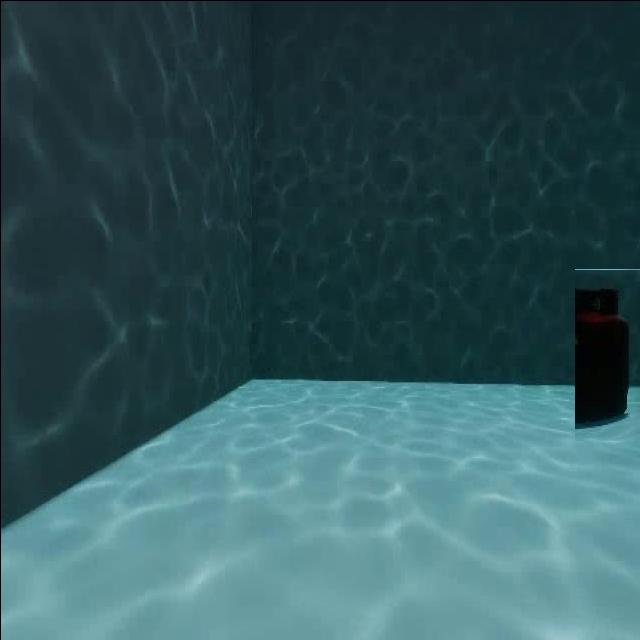Cylinder: (574, 268, 640, 440)
